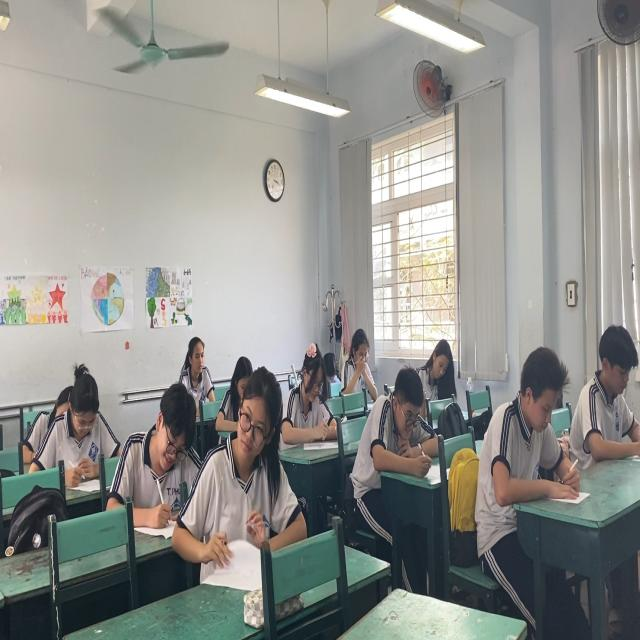cheating: (215, 364, 289, 544)
not_cheating: (485, 342, 579, 498), (127, 385, 205, 520), (580, 305, 640, 474), (42, 357, 118, 471), (277, 333, 340, 447), (374, 361, 428, 467), (336, 323, 378, 402), (180, 329, 209, 402), (420, 333, 452, 398)
